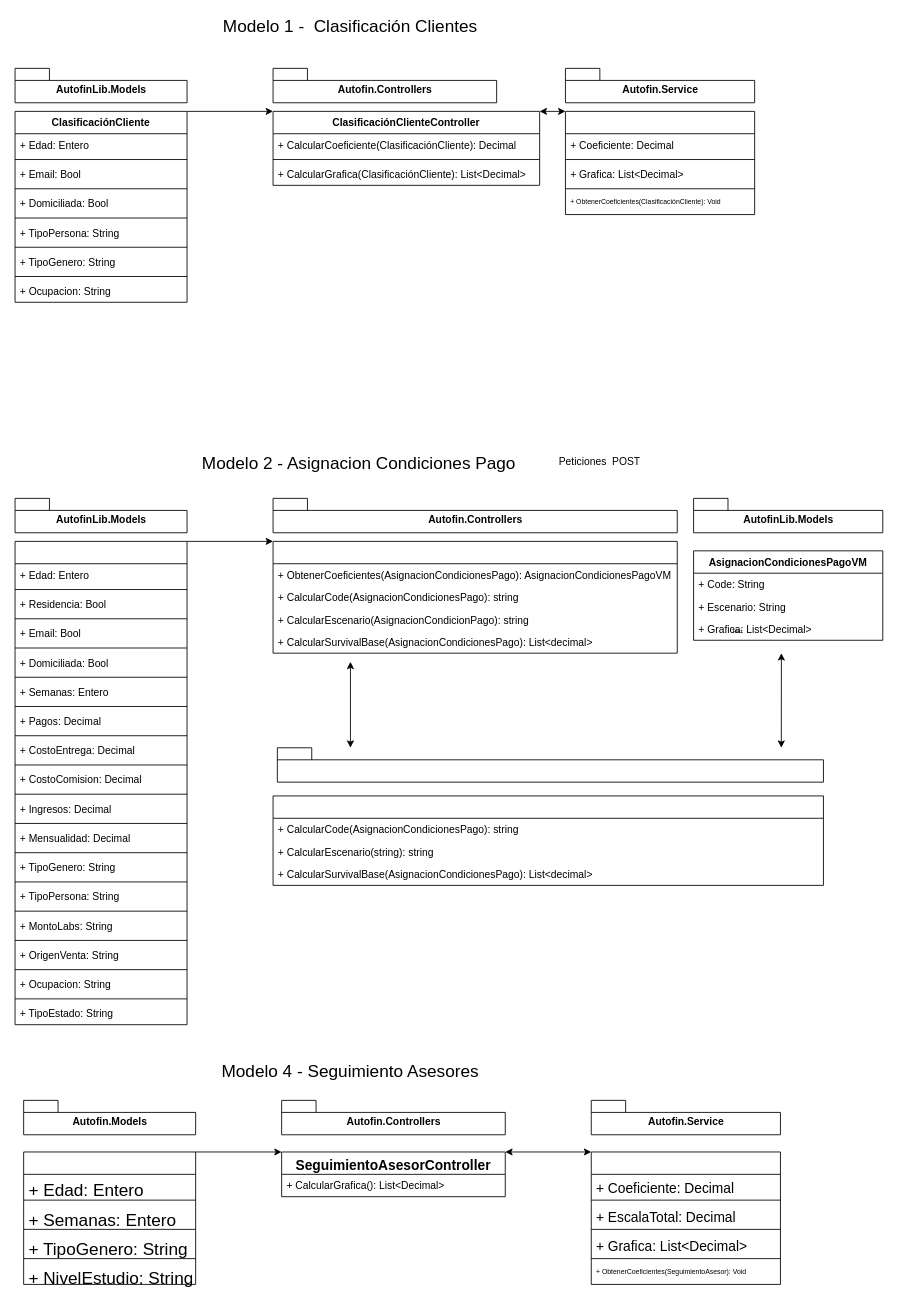
Some shapes in this 898 by 1301 pixel diagram are drawn without their labels. Each missing label, with the box of its shape:
AsignacionCondicionesPago: (14, 541, 187, 1025)
AsignacionCondicionesPagoController: (272, 541, 677, 653)
AsignacionCondicionesPagoService: (272, 795, 823, 885)
AutofinLib.Service: (276, 747, 823, 782)
Classname: (565, 111, 755, 215)
SeguimientoAsesor: (23, 1151, 196, 1284)
SeguimientoAsesorService: (590, 1151, 780, 1284)
